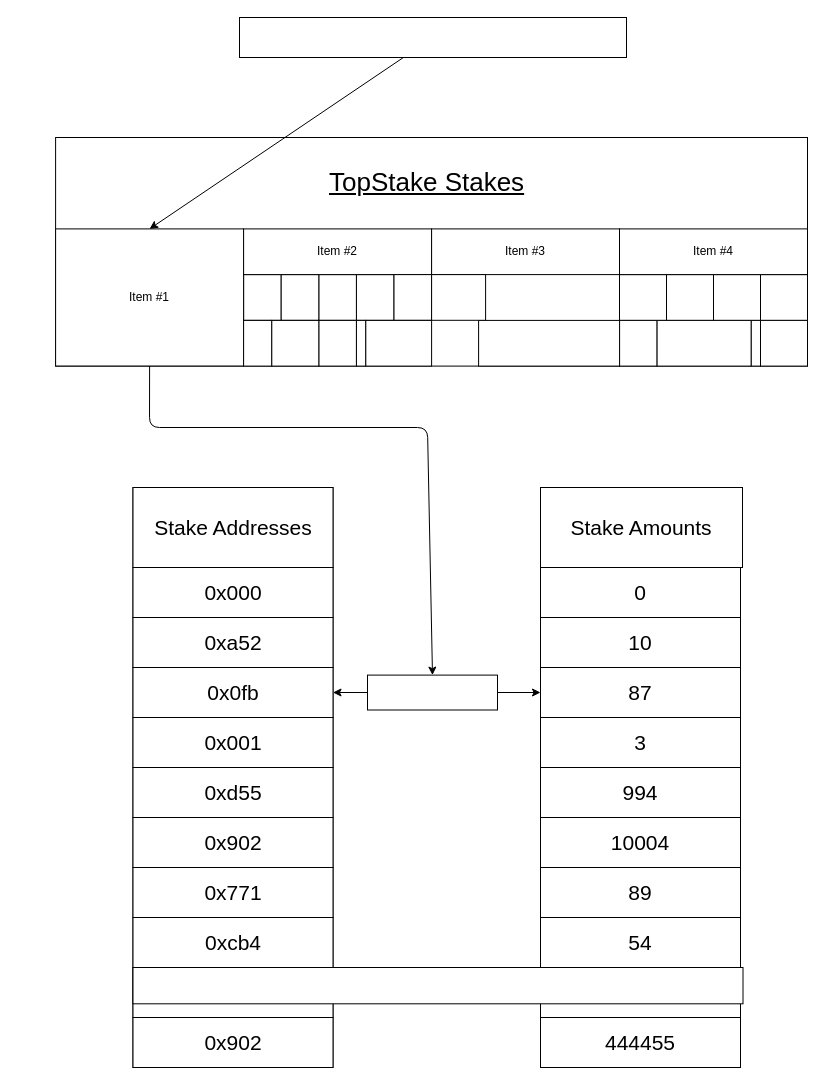
This 825x1085 diagram has some shape labels left out. The centre of each missing label's shape, as x and y in pixels:
"Add Stake: Item #1, Account 0x0fb , Amount x" belongs at point (432, 37).
"Staker Id: 2" belongs at point (432, 692).
"Total (active) Stakers" belongs at point (437, 985).
